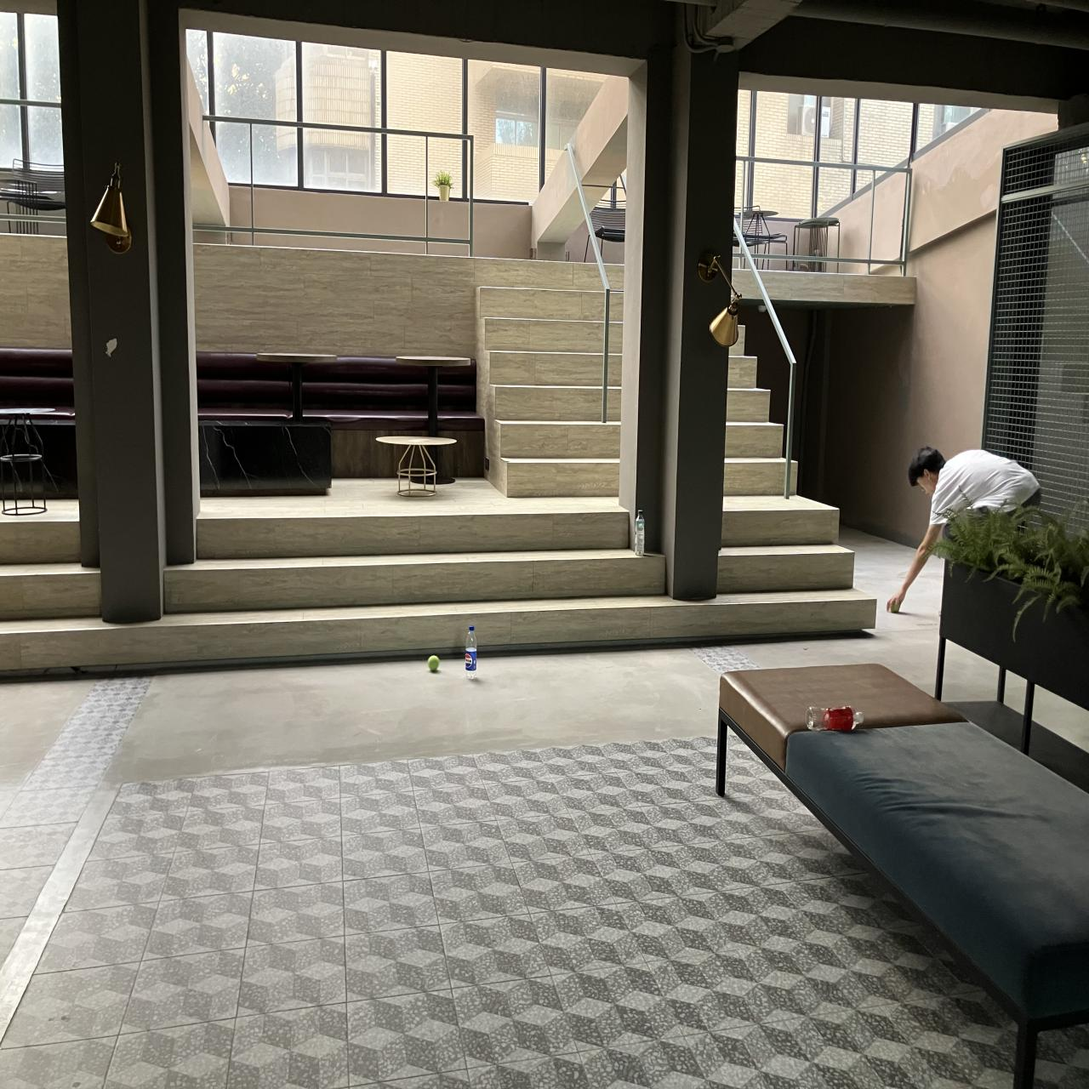person: (887, 447, 1039, 611)
plastic-bottle: (465, 625, 478, 679), (634, 510, 645, 556)
tennisball: (427, 655, 440, 672)
